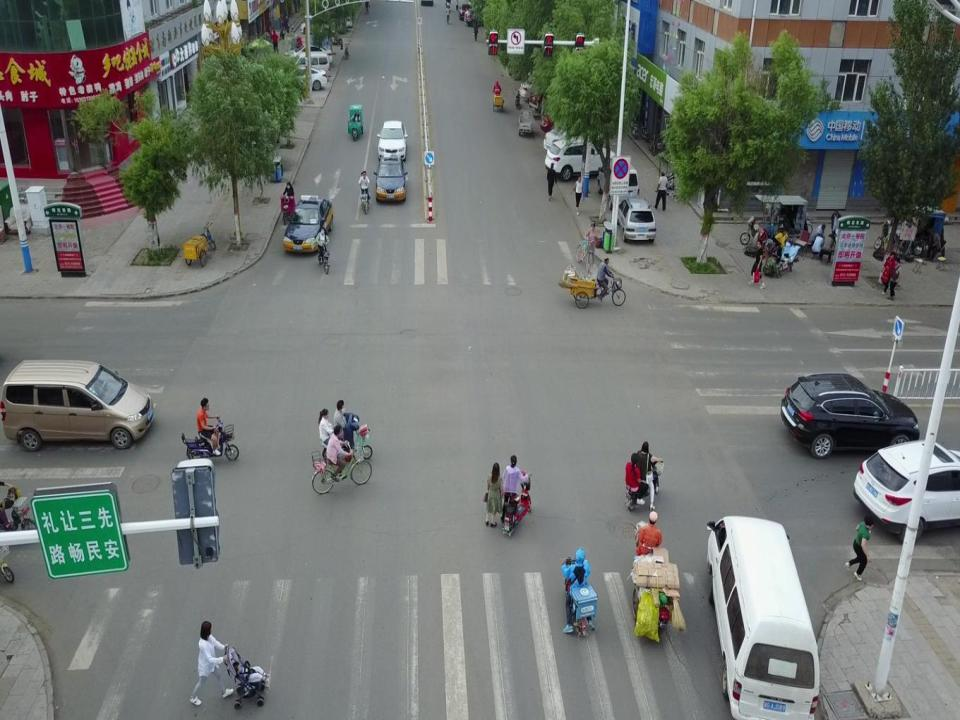car: (0, 359, 155, 451), (780, 371, 921, 461), (850, 438, 960, 546), (544, 138, 618, 182), (282, 194, 334, 255), (544, 119, 607, 156), (615, 196, 657, 244), (540, 106, 601, 137), (373, 153, 409, 204), (376, 119, 409, 163), (519, 76, 566, 105), (278, 64, 328, 90), (283, 44, 333, 69), (463, 6, 496, 27), (300, 18, 338, 36), (458, 2, 474, 21)
van: (706, 514, 822, 720), (597, 157, 640, 211), (528, 82, 570, 112), (289, 52, 330, 80)
